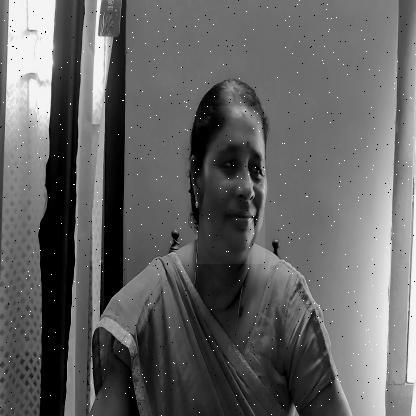Distracted: (196, 106, 265, 264)
